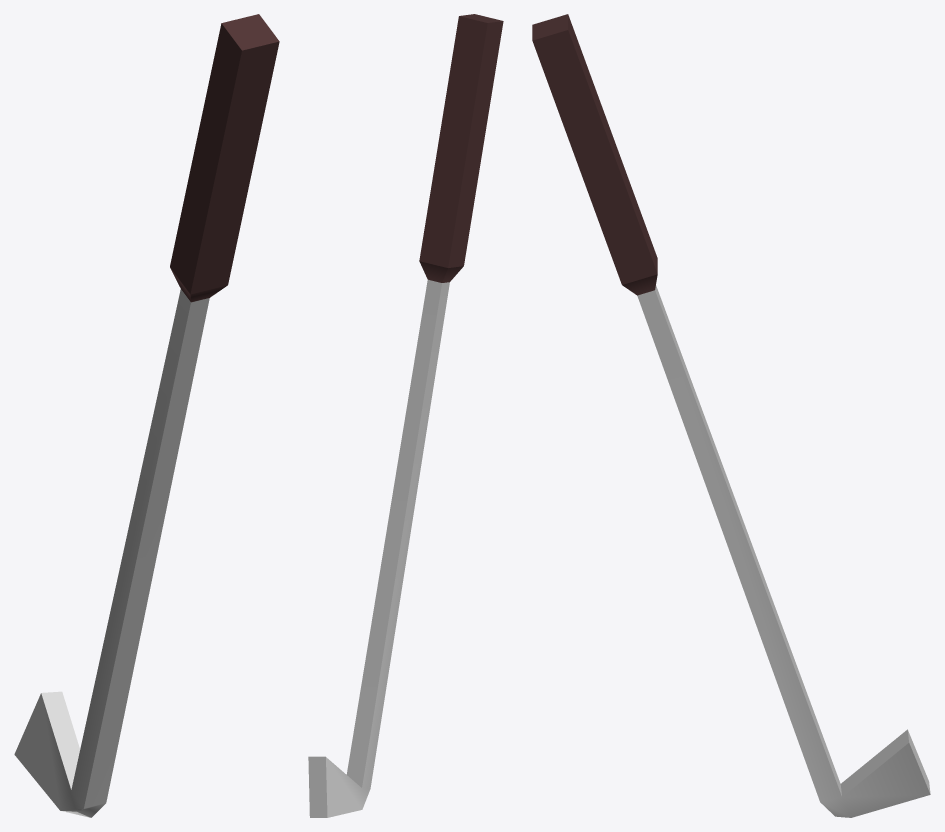
File: GolfClub.fbx
The picture shows the model from 3 angles, left to right: view 1: azimuth 30°, elevation 25°; view 2: azimuth 150°, elevation 25°; view 3: azimuth 270°, elevation 25°; orthographic projection. The views are drawn at different scales.
Parts seen in each view (by area): view 1: pCube1; view 2: pCube1; view 3: pCube1.
Boxes of the visible parts, x1,y1,x2,y2 form: pCube1: (14, 14, 279, 817); pCube1: (308, 14, 503, 817); pCube1: (532, 14, 930, 817).
Bounding box in the file's own units: 0.5257 × 12.22 × 5.55.
